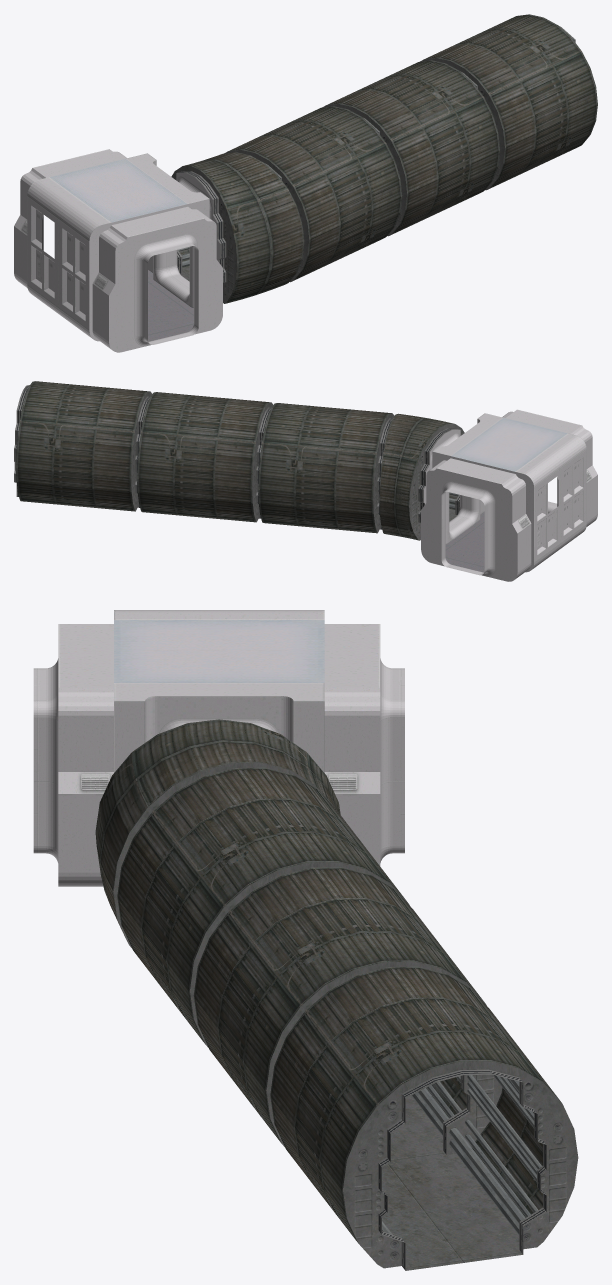
File: thm_spc_corvette_dungeon_r44_penthall44_mesh_r44.fbx
3 views of the same model, one above another, from view 1: azimuth 30°, elevation 25°; view 2: azimuth 150°, elevation 25°; view 3: azimuth 270°, elevation 25° (orthographic). The views are drawn at different scales.
Parts seen in each view (by area): view 1: mesh_node; view 2: mesh_node; view 3: mesh_node.
Boxes of the visible parts, x1,y1,x2,y2 form: mesh_node: (14,14,597,352); mesh_node: (14,381,597,581); mesh_node: (33,610,578,1270).
Bounding box in the file's own units: 18.3 × 3.5 × 8.8.
